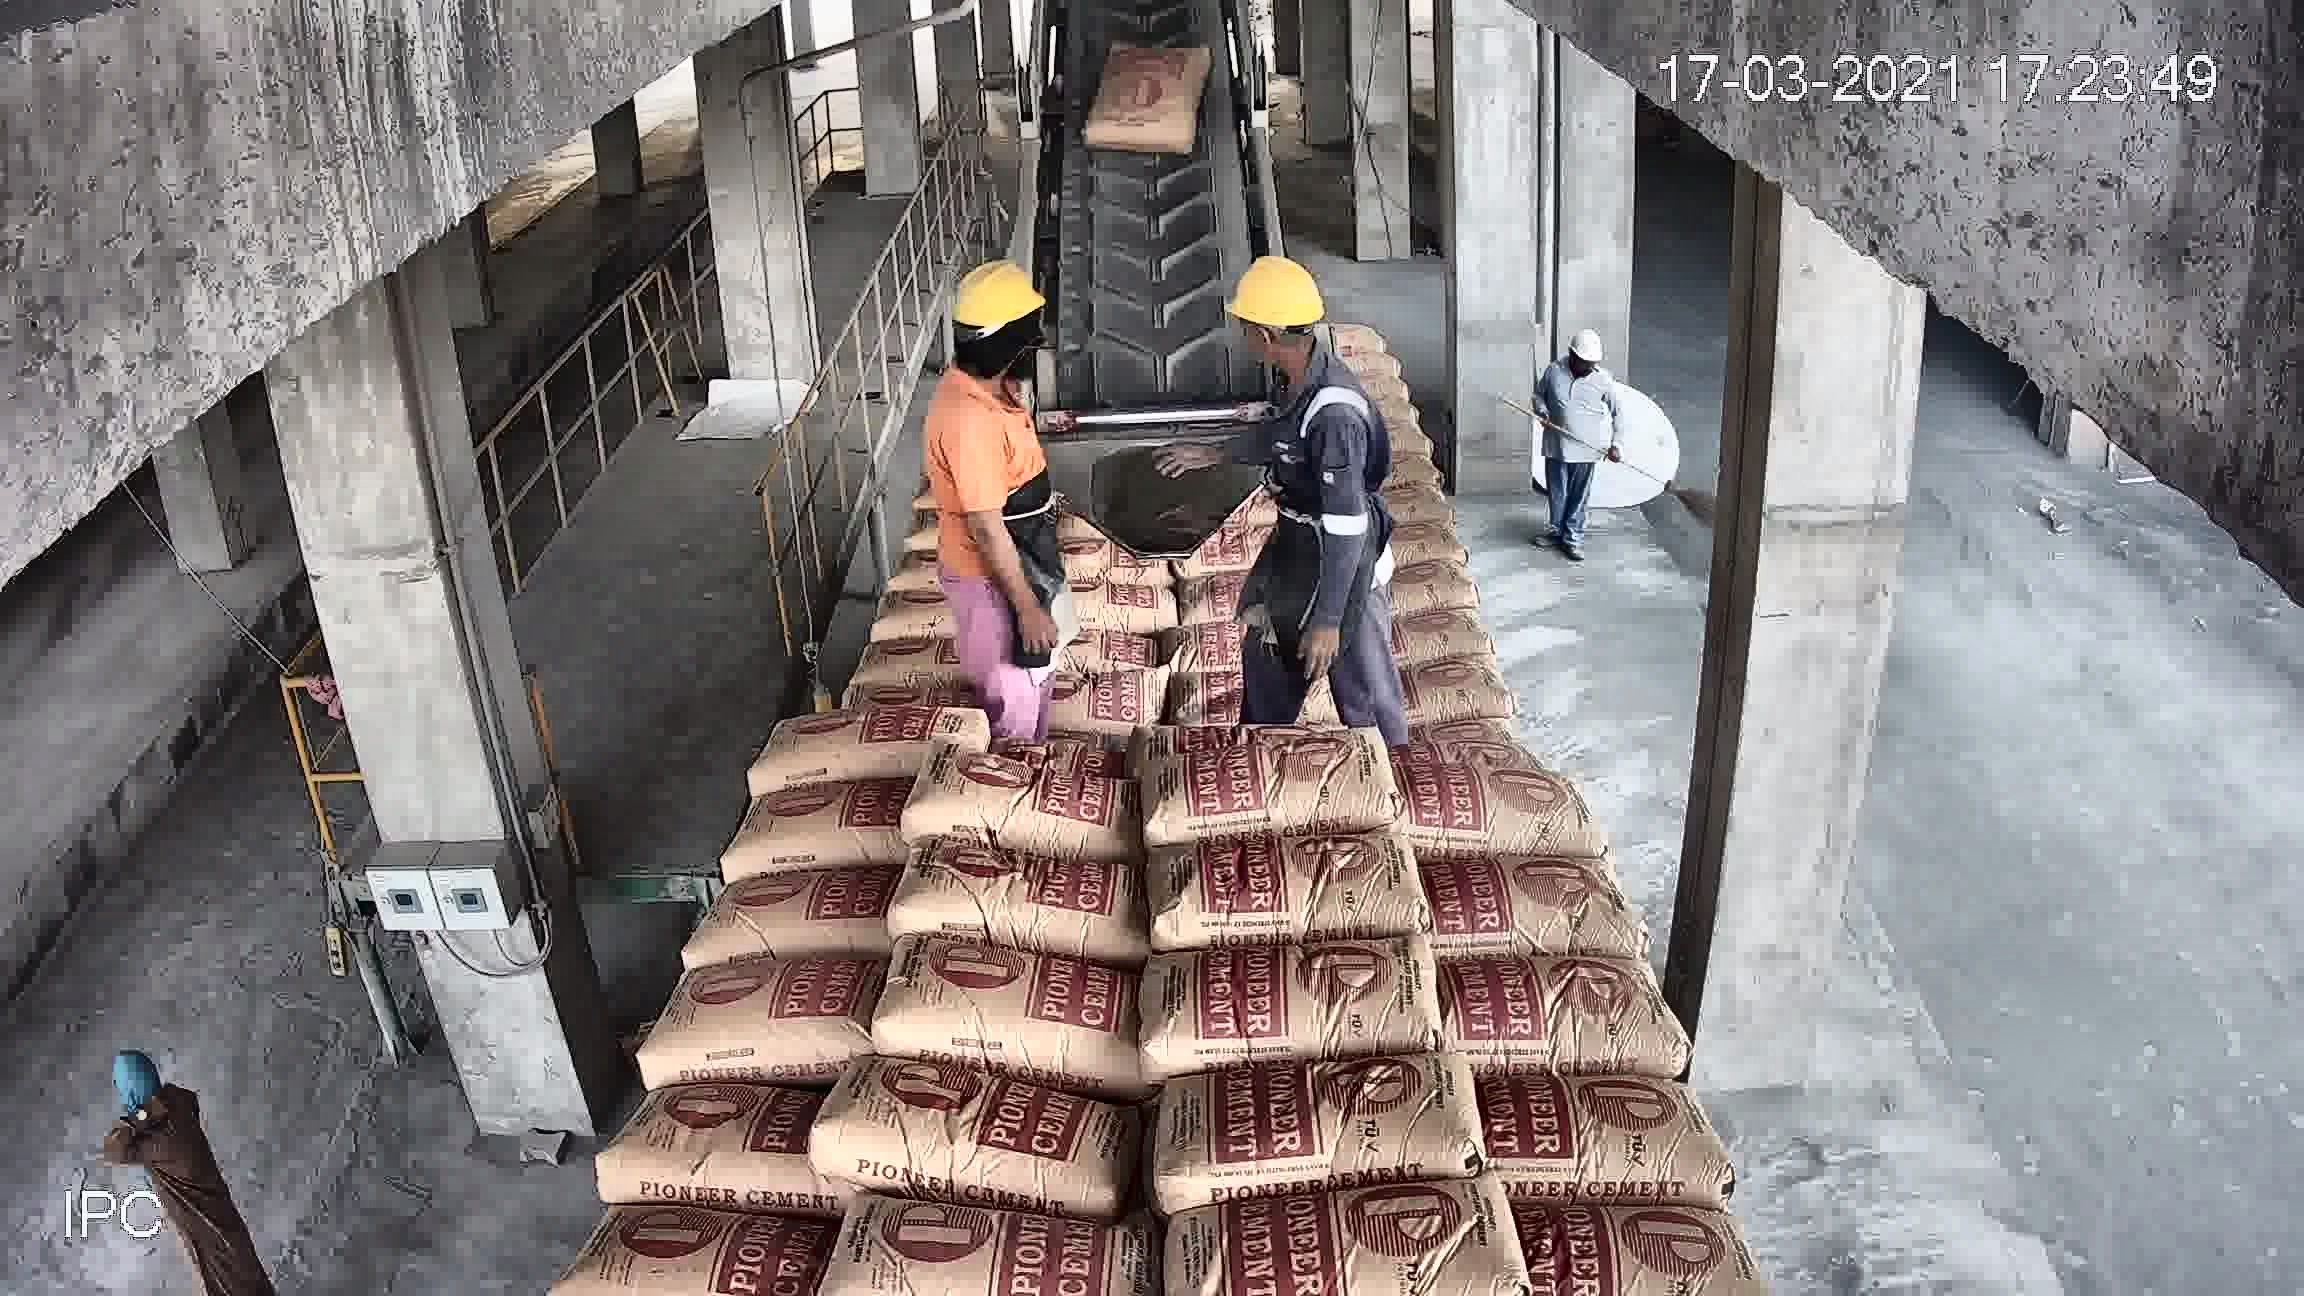bag: (1052, 9, 1250, 340), (1100, 92, 1207, 193)
bag_h: (1135, 1044, 1492, 1203), (1143, 1176, 1521, 1296), (1440, 1070, 1722, 1223), (1166, 919, 1446, 1071), (798, 1176, 1139, 1296), (619, 934, 875, 1092), (1431, 943, 1677, 1097), (869, 942, 1171, 1062), (815, 1063, 1112, 1182), (1143, 812, 1423, 935), (1139, 729, 1399, 855), (650, 862, 921, 980), (590, 1074, 813, 1211), (1499, 1179, 1750, 1296), (1416, 836, 1635, 970), (1152, 573, 1385, 688), (1364, 753, 1600, 867), (900, 836, 1157, 938), (1133, 657, 1402, 753), (1348, 673, 1589, 779), (560, 1204, 853, 1290), (892, 748, 1128, 850), (722, 756, 934, 869), (1135, 524, 1362, 611), (923, 671, 1158, 753), (1361, 608, 1548, 706), (734, 695, 953, 779), (771, 642, 956, 729), (980, 475, 1150, 568), (965, 608, 1131, 692), (815, 525, 968, 609), (1351, 565, 1518, 638), (804, 578, 965, 649), (1340, 506, 1502, 574), (1141, 492, 1313, 551), (978, 570, 1161, 614), (1035, 426, 1184, 472), (1070, 381, 1176, 438), (1071, 460, 1193, 502)
